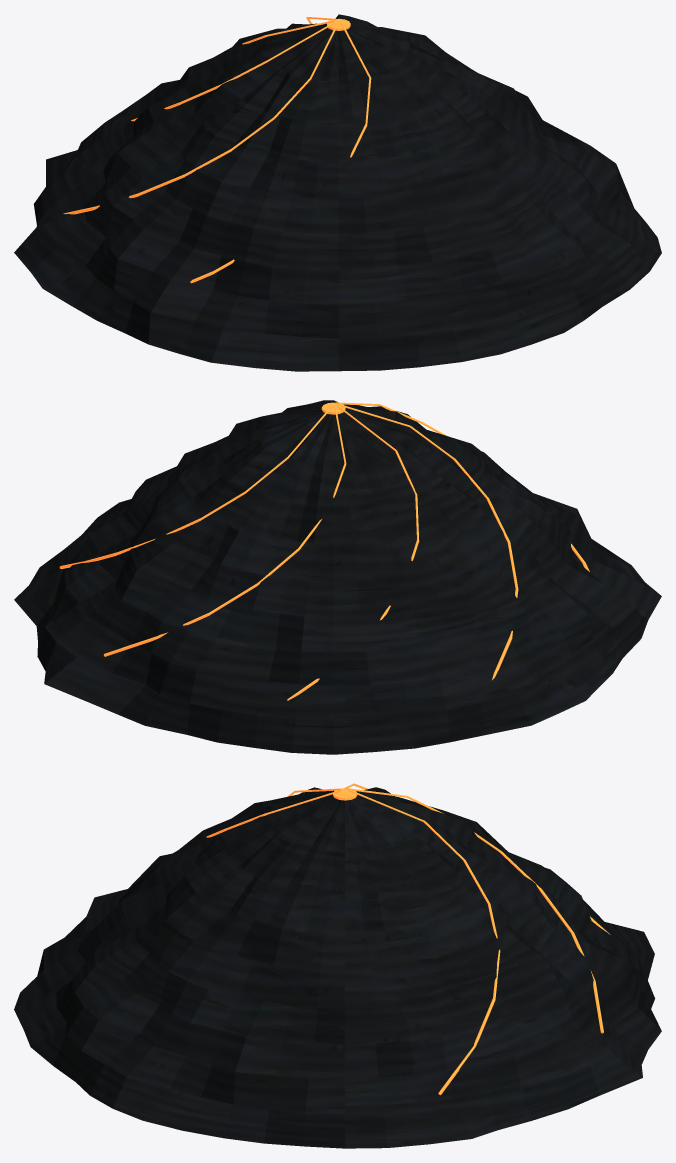
The model's file is volcano-lod1.meshopt.glb.
The picture shows the model from 3 angles, top to bottom: view 1: azimuth 30°, elevation 25°; view 2: azimuth 150°, elevation 25°; view 3: azimuth 270°, elevation 25°; orthographic projection. The views are drawn at different scales.
Visible parts, largest first — view 1: BasaltStratovolcano, CinematicBatch_lava; view 2: BasaltStratovolcano, CinematicBatch_lava; view 3: BasaltStratovolcano, CinematicBatch_lava.
Part boxes in pixels (x1,y1,x2,y2): BasaltStratovolcano: (14,14,661,371); CinematicBatch_lava: (63,17,371,283); BasaltStratovolcano: (14,400,661,754); CinematicBatch_lava: (59,402,589,700); BasaltStratovolcano: (14,787,661,1148); CinematicBatch_lava: (206,783,610,1095).
Bounding box in the file's own units: 133 × 51.98 × 133.
2 materials, 1 textured.
